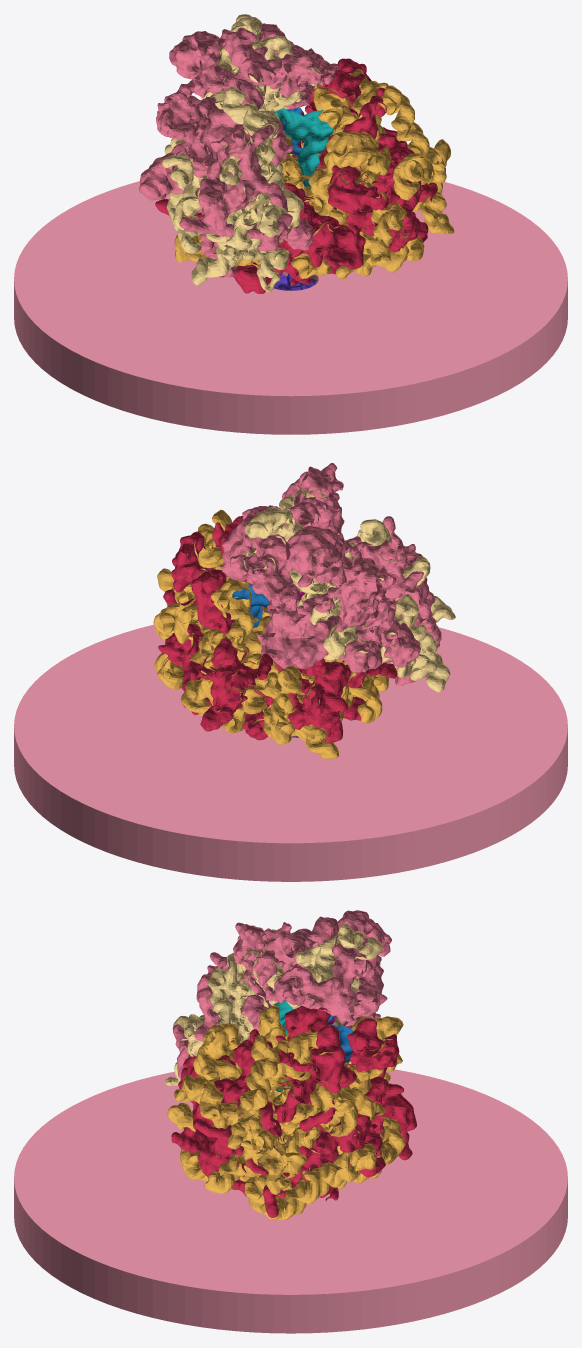
The model's file is ribosome-3j7r.glb.
3 views of the same model, one above another, from view 1: azimuth 30°, elevation 25°; view 2: azimuth 150°, elevation 25°; view 3: azimuth 270°, elevation 25° (orthographic).
Visible parts, largest first — view 1: Màng lưới nội chất, Protein tiểu phần nhỏ, rRNA tiểu phần lớn, rRNA tiểu phần nhỏ, Protein tiểu phần lớn, tRNA A/P; view 2: Màng lưới nội chất, Protein tiểu phần nhỏ, rRNA tiểu phần lớn, Protein tiểu phần lớn, rRNA tiểu phần nhỏ, tRNA P/E; view 3: Màng lưới nội chất, rRNA tiểu phần lớn, Protein tiểu phần lớn, Protein tiểu phần nhỏ, rRNA tiểu phần nhỏ.
Boxes of the visible parts, left/top/right/bottom form: Màng lưới nội chất: left=14, top=181, right=567, bottom=434; Protein tiểu phần nhỏ: left=139, top=23, right=338, bottom=277; rRNA tiểu phần lớn: left=174, top=69, right=454, bottom=285; rRNA tiểu phần nhỏ: left=162, top=14, right=321, bottom=292; Protein tiểu phần lớn: left=155, top=58, right=437, bottom=293; tRNA A/P: left=268, top=108, right=333, bottom=187; Màng lưới nội chất: left=14, top=624, right=567, bottom=881; Protein tiểu phần nhỏ: left=220, top=463, right=441, bottom=685; rRNA tiểu phần lớn: left=153, top=509, right=389, bottom=758; Protein tiểu phần lớn: left=158, top=516, right=397, bottom=742; rRNA tiểu phần nhỏ: left=243, top=488, right=455, bottom=692; tRNA P/E: left=232, top=584, right=269, bottom=627; Màng lưới nội chất: left=14, top=1069, right=567, bottom=1333; rRNA tiểu phần lớn: left=167, top=1005, right=405, bottom=1220; Protein tiểu phần lớn: left=171, top=1006, right=416, bottom=1217; Protein tiểu phần nhỏ: left=173, top=910, right=391, bottom=1079; rRNA tiểu phần nhỏ: left=165, top=923, right=382, bottom=1085.
Bounding box in the file's own units: 0.52 × 0.3086 × 0.52.
